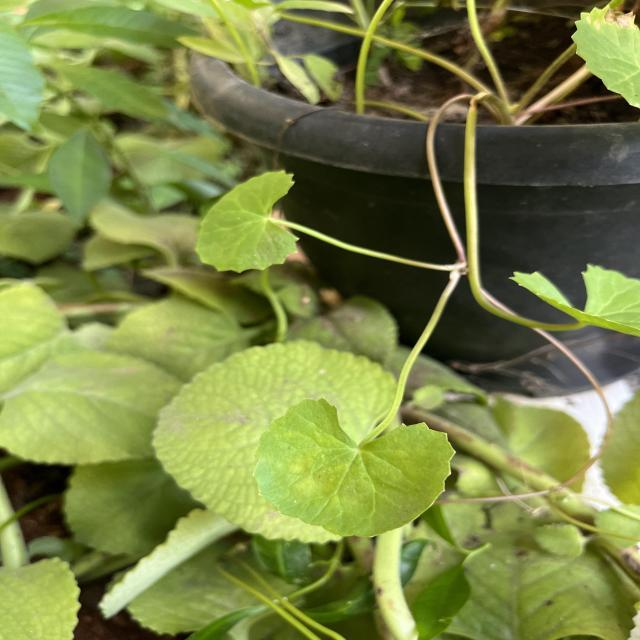Centella asiatica: (249, 394, 460, 540)
